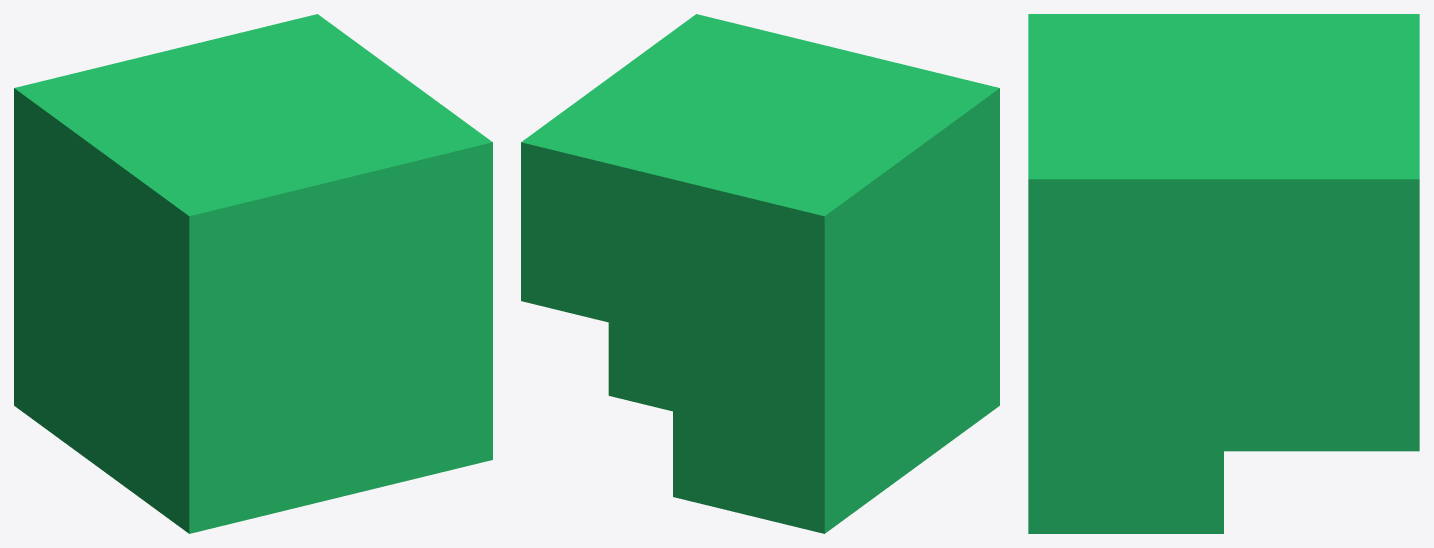
File: missing_50cm_corner.dae
3 renders of one model, left to right at view 1: azimuth 30°, elevation 25°; view 2: azimuth 150°, elevation 25°; view 3: azimuth 270°, elevation 25°, orthographic. The views are drawn at different scales.
Parts seen in each view (by area): view 1: Cube; view 2: Cube; view 3: Cube.
Boxes of the visible parts, bbox=[...] form: Cube: bbox=[14, 14, 492, 533]; Cube: bbox=[521, 14, 999, 533]; Cube: bbox=[1028, 14, 1419, 533].
Size of the model in its own units: 2 by 2 by 2.
